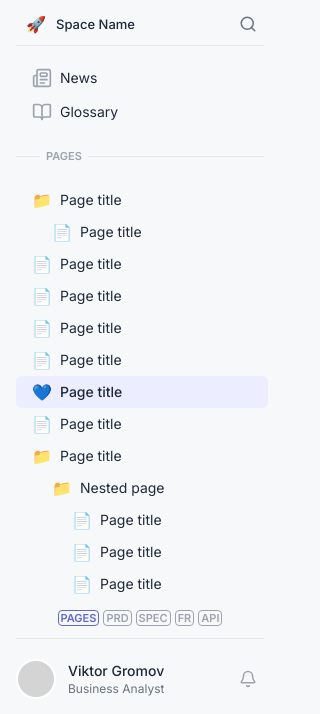
LeftSidebar › Collection Name Divider › hides action buttons on mouse leave
The image size is (320, 714).
# Use non-PAGES collection
Click the button "PRD".
click(118, 618)  # box [103,610,132,626]
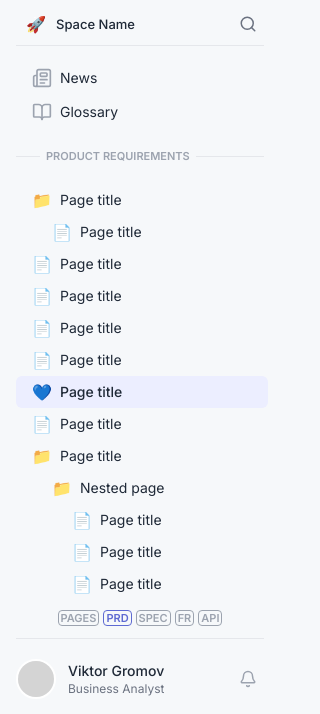
# Hover and then leave
Hover over the element with class "collection-name-divider".
mouse_move(118, 156)  # box [46,149,190,163]
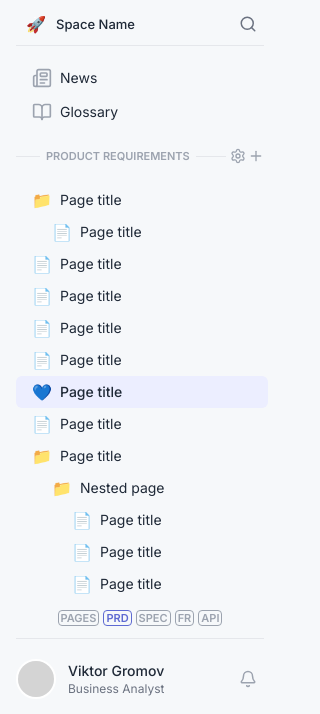
Result: the button named "Settings" is shown at [230,148,246,164]
Move the pointer off the element with class "collection-name-divider", box [46,148,264,164]
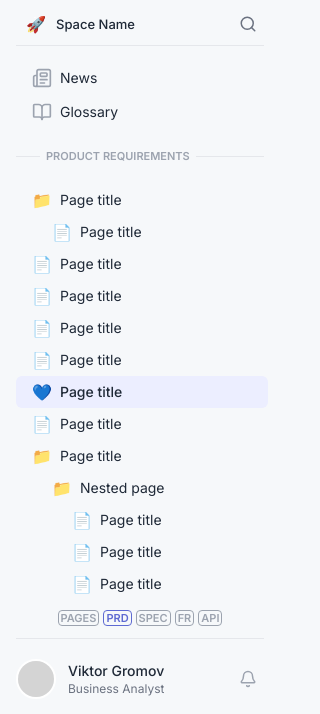
Result: the button labelled "Settings" is gone
